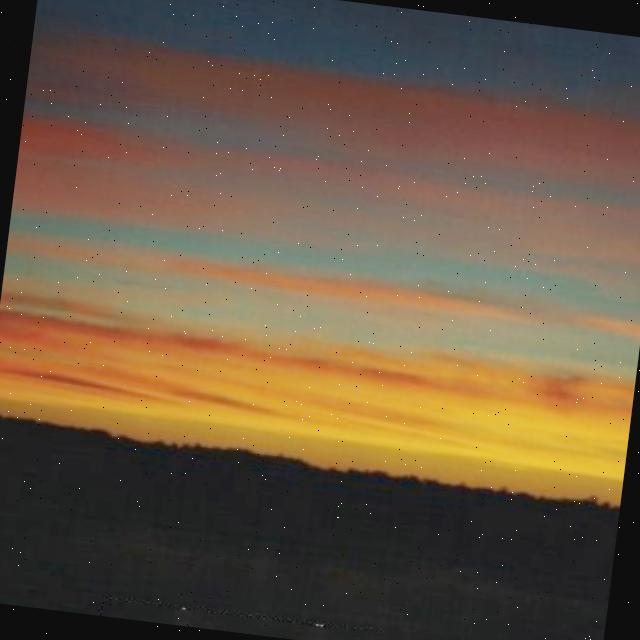As: (1, 8, 640, 473)
